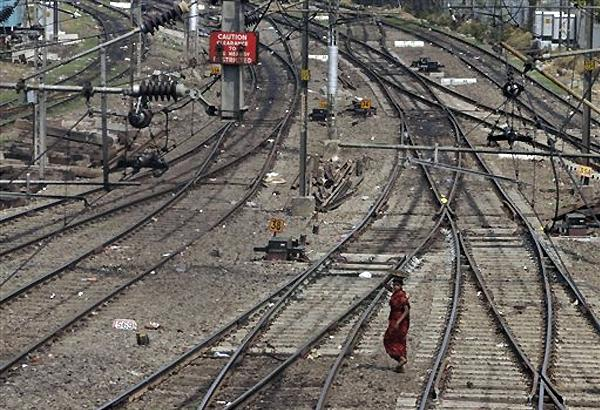person: (353, 244, 433, 387)
